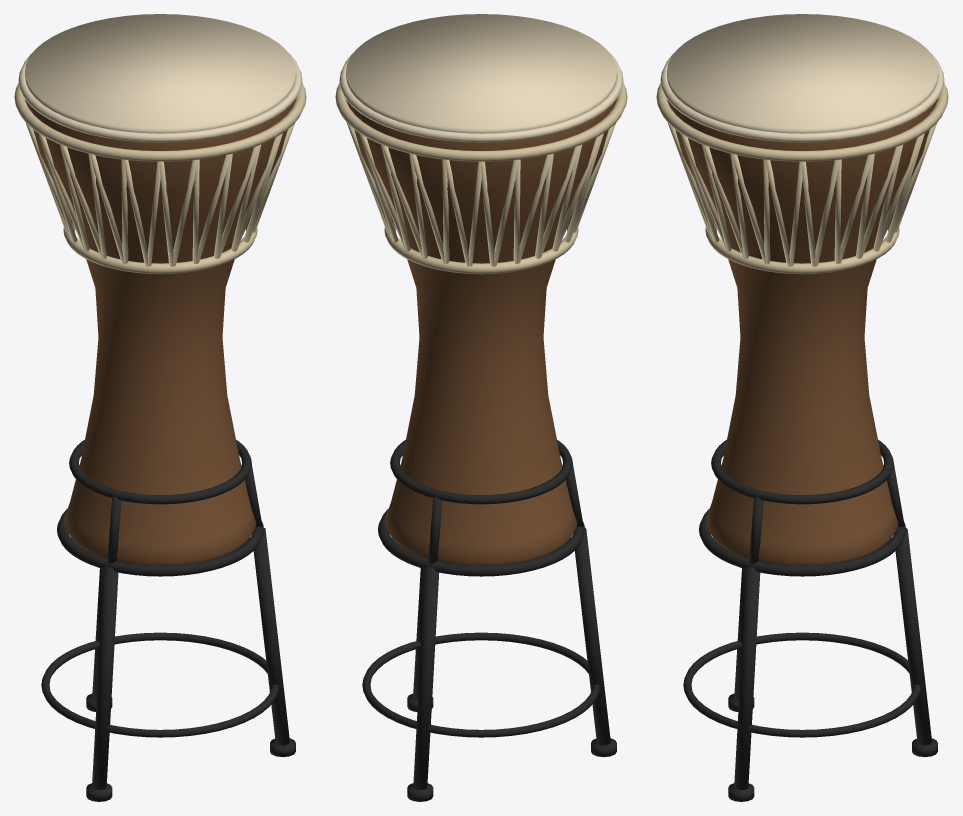
Rendered from djembe.glb.
3 views of the same model, side by side, from view 1: azimuth 30°, elevation 25°; view 2: azimuth 150°, elevation 25°; view 3: azimuth 270°, elevation 25° (orthographic).
Parts seen in each view (by area): view 1: Djembe; view 2: Djembe; view 3: Djembe.
Boxes of the visible parts, x1=… form: Djembe: x1=14, y1=14, x2=306, y2=801; Djembe: x1=335, y1=14, x2=627, y2=801; Djembe: x1=656, y1=14, x2=948, y2=801.
Bounding box in the file's own units: 0.358 × 0.92 × 0.358.
